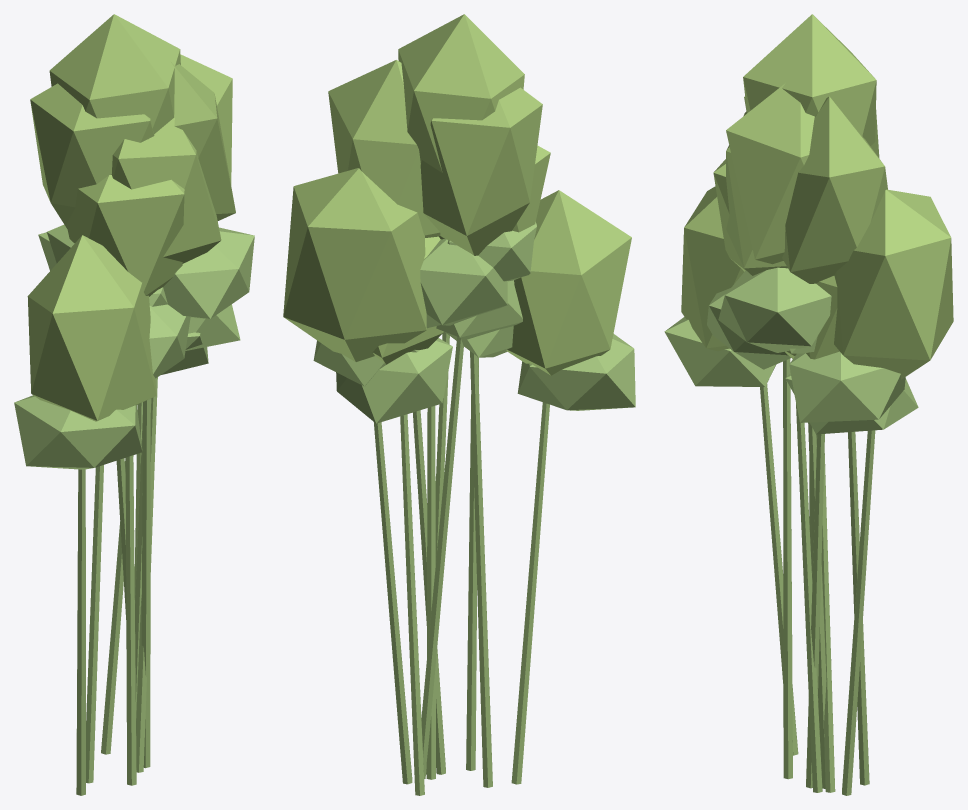
File: take.glb
The picture shows the model from 3 angles, left to right: view 1: azimuth 30°, elevation 25°; view 2: azimuth 150°, elevation 25°; view 3: azimuth 270°, elevation 25°; orthographic projection.
Visible parts, largest first — view 1: take; view 2: take; view 3: take.
Part boxes in pixels (box(x1,y1,x2,y2)): take: box(14, 14, 254, 795); take: box(283, 14, 635, 795); take: box(664, 14, 953, 795).
Bounding box in the file's own units: 3.31 × 9.18 × 3.16.
